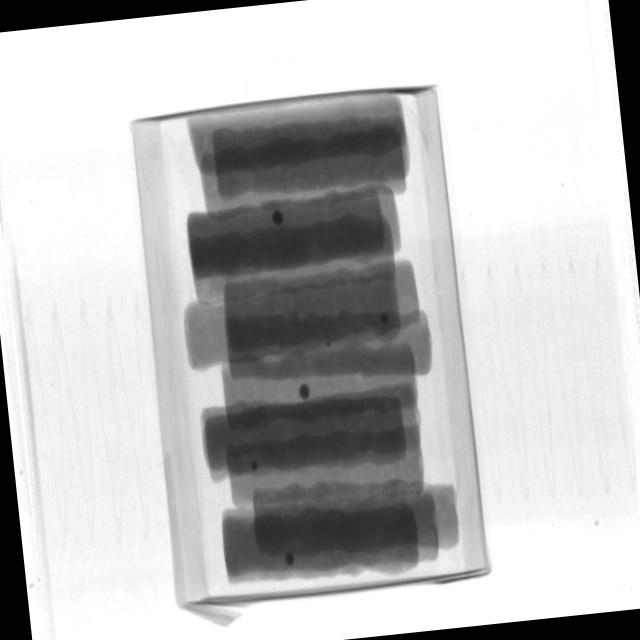ym: (273, 209, 285, 227), (299, 384, 311, 400), (250, 458, 261, 474), (287, 554, 297, 568), (382, 313, 391, 324), (326, 339, 332, 350)
